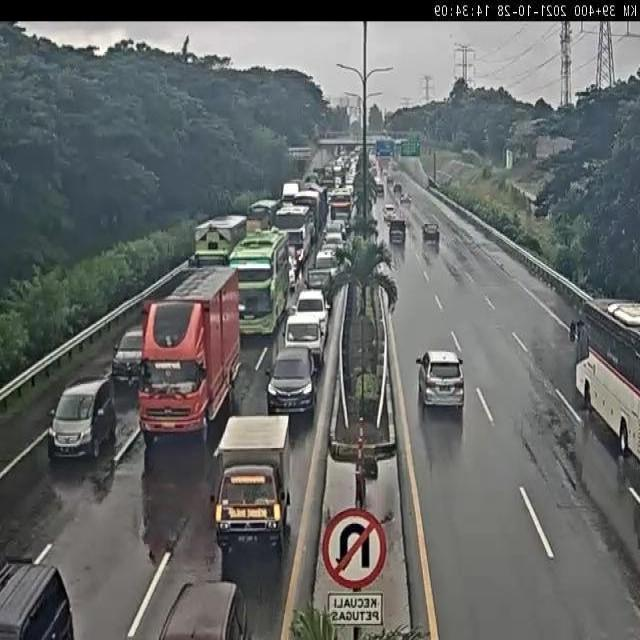Bus: (568, 300, 640, 479), (228, 228, 292, 336), (273, 203, 316, 268)
Car: (48, 374, 118, 460), (265, 346, 317, 417), (417, 348, 465, 409), (111, 328, 146, 388), (292, 288, 327, 339), (310, 249, 342, 295), (388, 218, 406, 245), (422, 222, 440, 244), (383, 203, 396, 218), (401, 192, 411, 204), (394, 182, 402, 194), (387, 174, 394, 185)
Truck: (137, 266, 241, 443), (214, 413, 292, 554), (193, 215, 248, 268), (282, 312, 326, 373), (246, 199, 279, 231)
